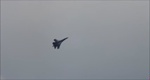maybay_muctieu: (51, 37, 68, 50)
